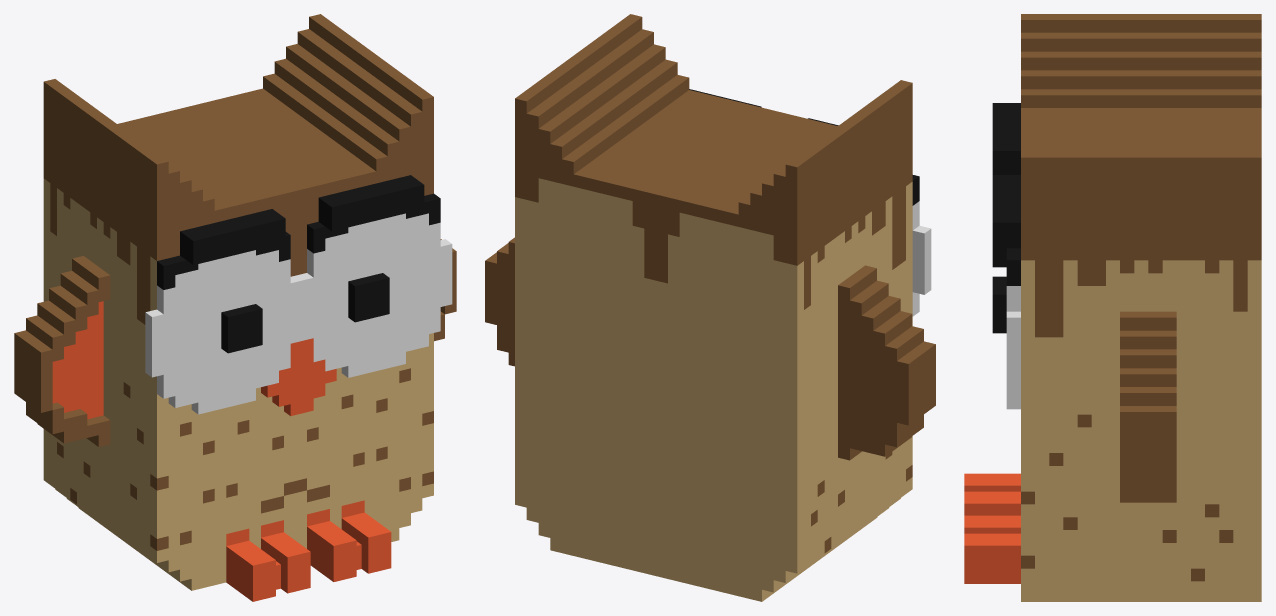
Rendered from Owl.obj.
3 views of the same model, side by side, from view 1: azimuth 30°, elevation 25°; view 2: azimuth 150°, elevation 25°; view 3: azimuth 270°, elevation 25° (orthographic). The views are drawn at different scales.
Visible parts, largest first — view 1: Owl; view 2: Owl; view 3: Owl.
Part boxes in pixels (x1,y1,x2,y2): Owl: (14,14,456,601); Owl: (485,14,935,601); Owl: (964,14,1261,601).
Size of the model in its own units: 36 by 36 by 21.
1 material, 1 textured.
